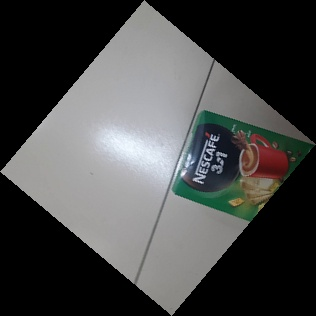Nes Rang: (164, 109, 316, 240)
